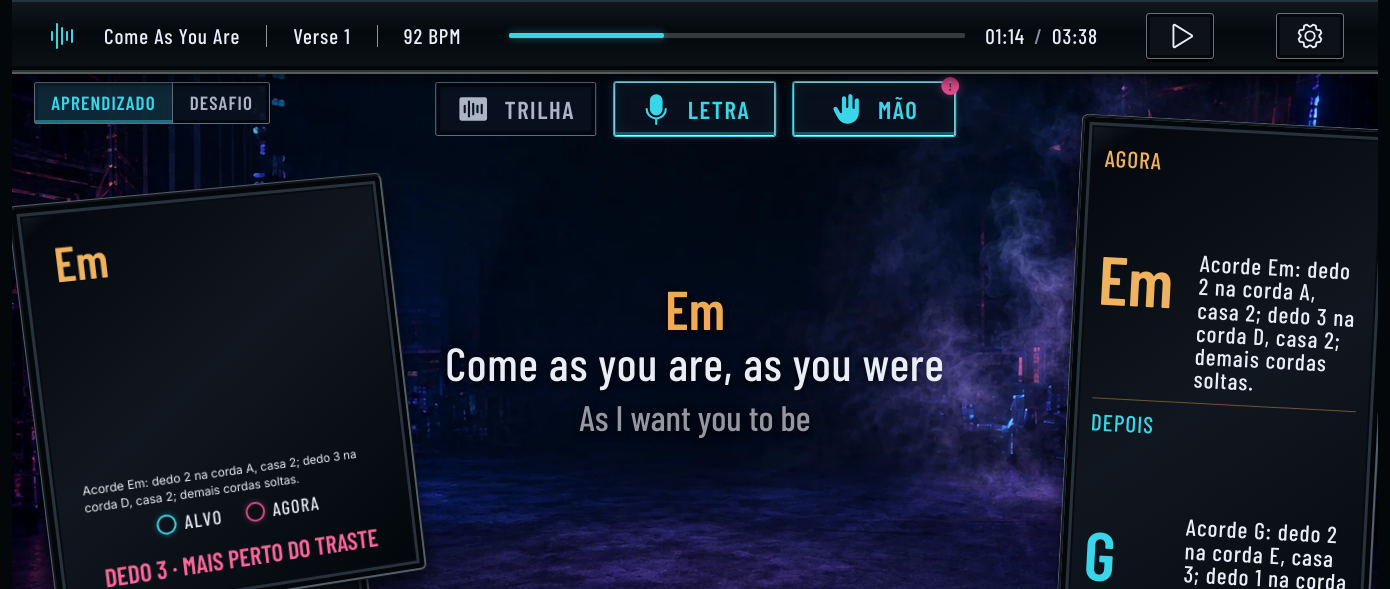
practice screen › toggles lyrics without removing the other guidance
The width and height of the screenshot is (1390, 589).
Click the button "LETRA". click: click(695, 109)
box: [614,82,776,136]
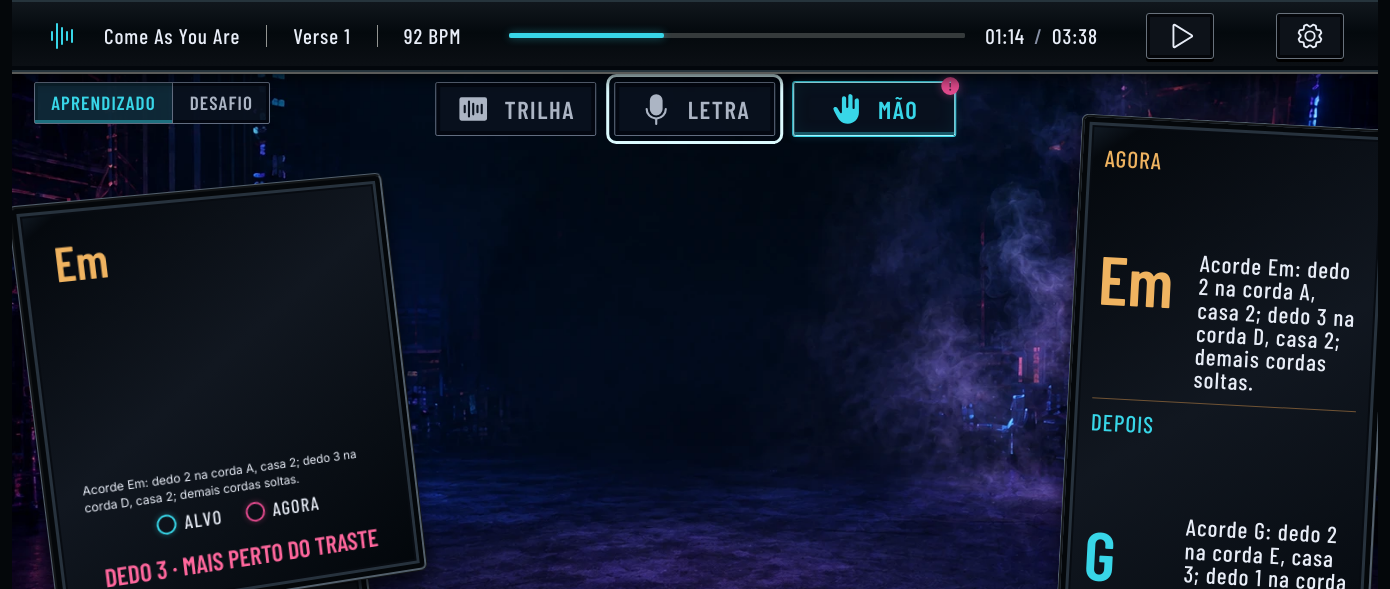
Expected: the text "Come as you are, as you were" is gone
